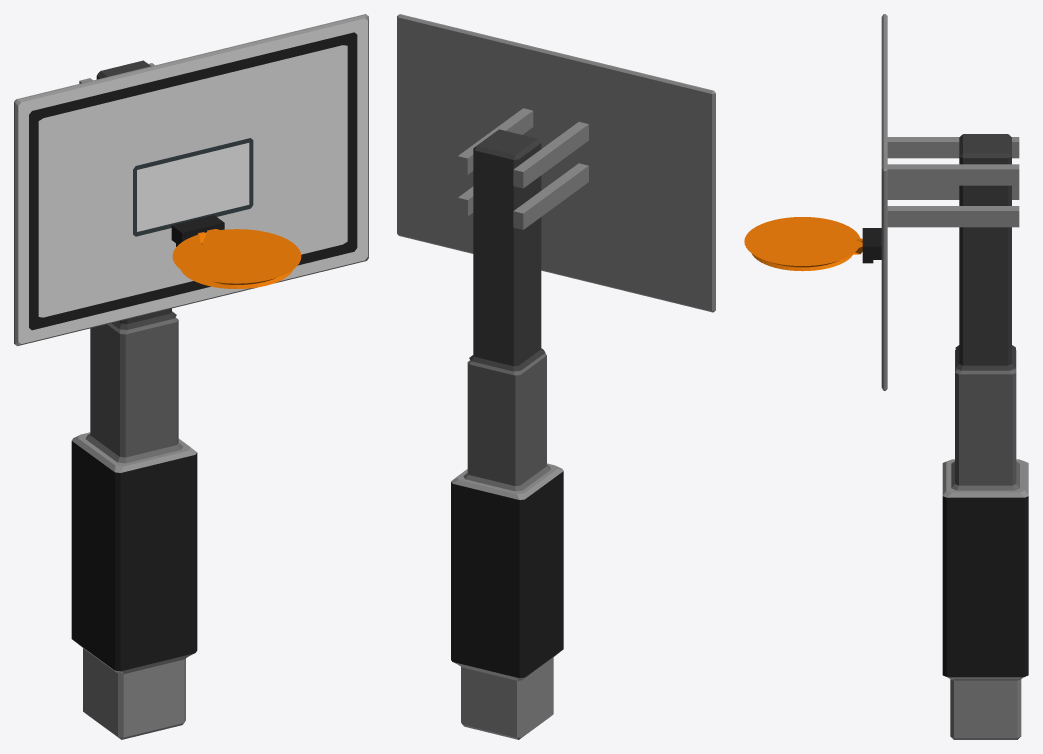
Rendered from Tiang 1.fbx.
3 views of the same model, side by side, from view 1: azimuth 30°, elevation 25°; view 2: azimuth 150°, elevation 25°; view 3: azimuth 270°, elevation 25° (orthographic). The views are drawn at different scales.
Visible parts, largest first — view 1: Tiang; view 2: Tiang; view 3: Tiang.
Boxes of the visible parts, x1,y1,x2,y2 form: Tiang: (14, 14, 368, 739); Tiang: (397, 14, 715, 739); Tiang: (744, 14, 1028, 739).
Bounding box in the file's own units: 1203 × 2286 × 926.
